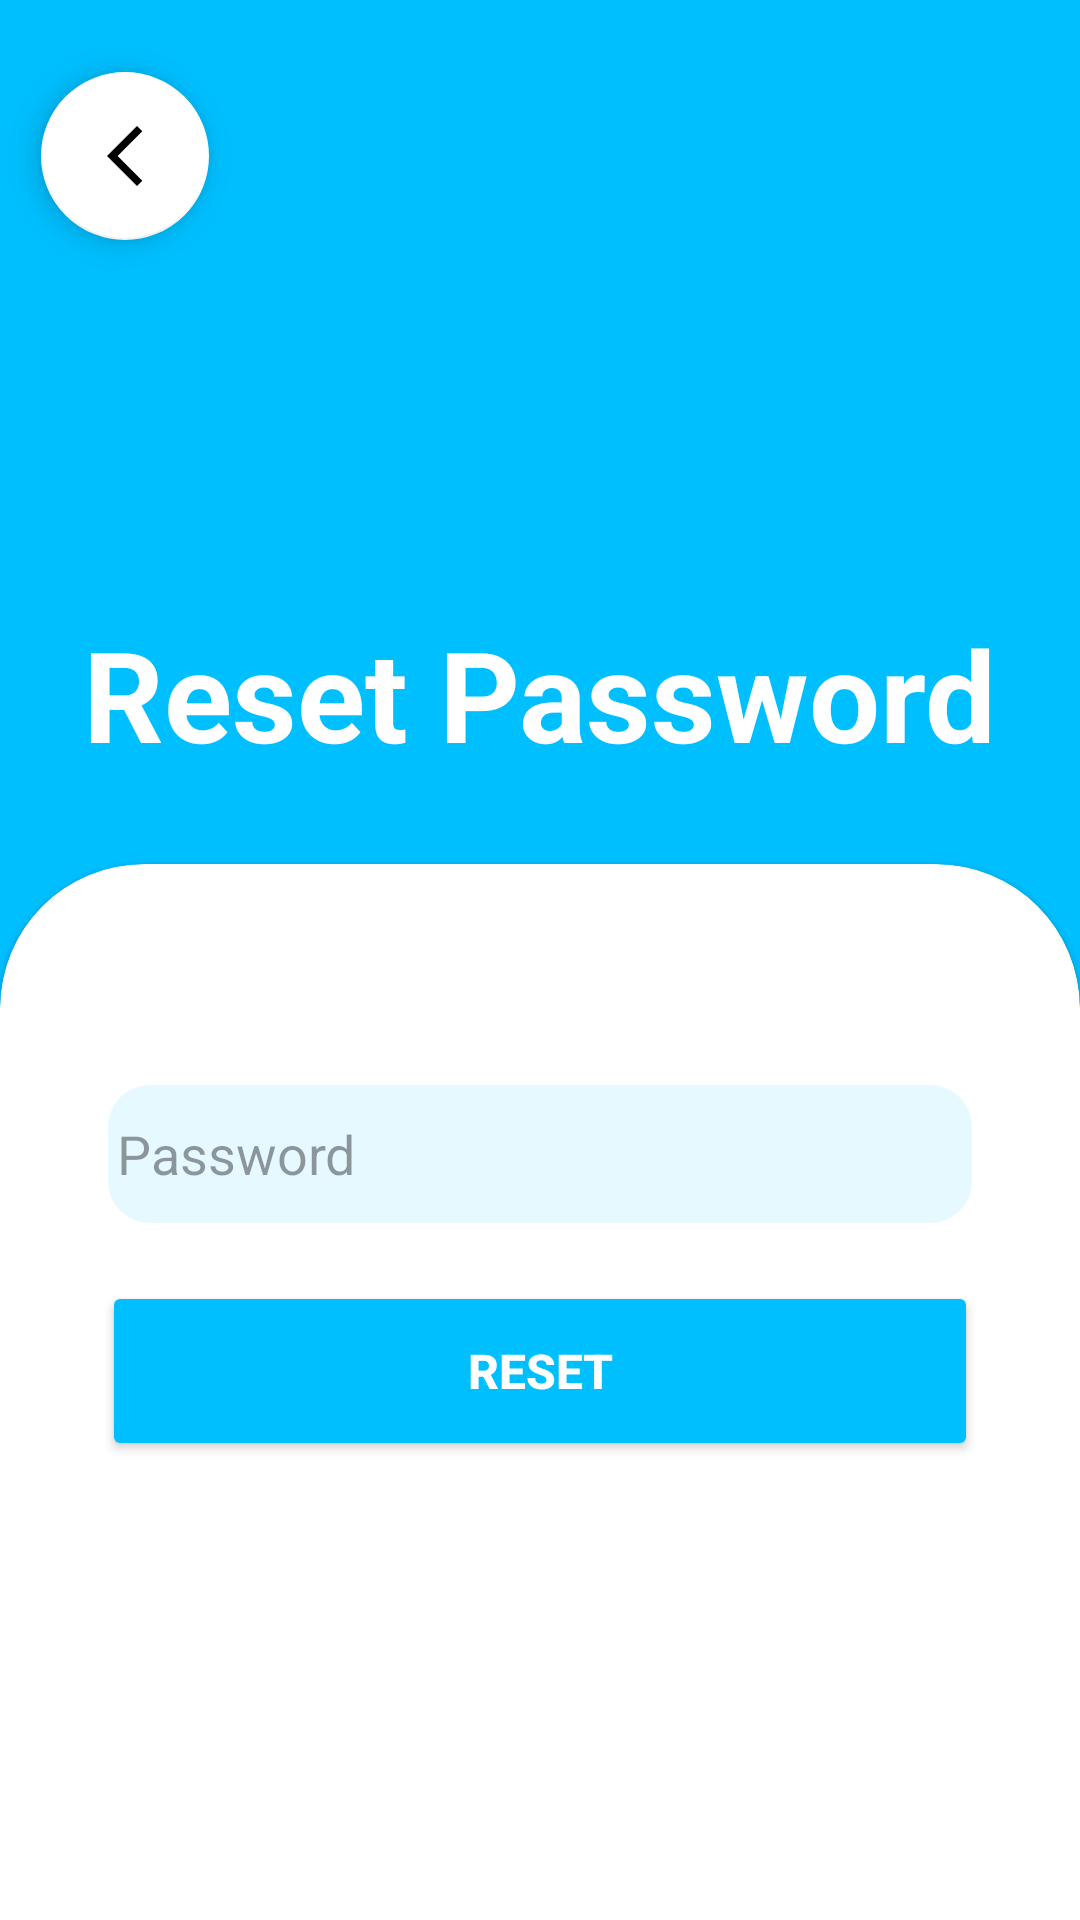

Named icons in this screenshot (1080w x 1920h) and their bounding boxes, (x1, y1, x2, y2):
arrow back: (41, 72, 209, 240)
